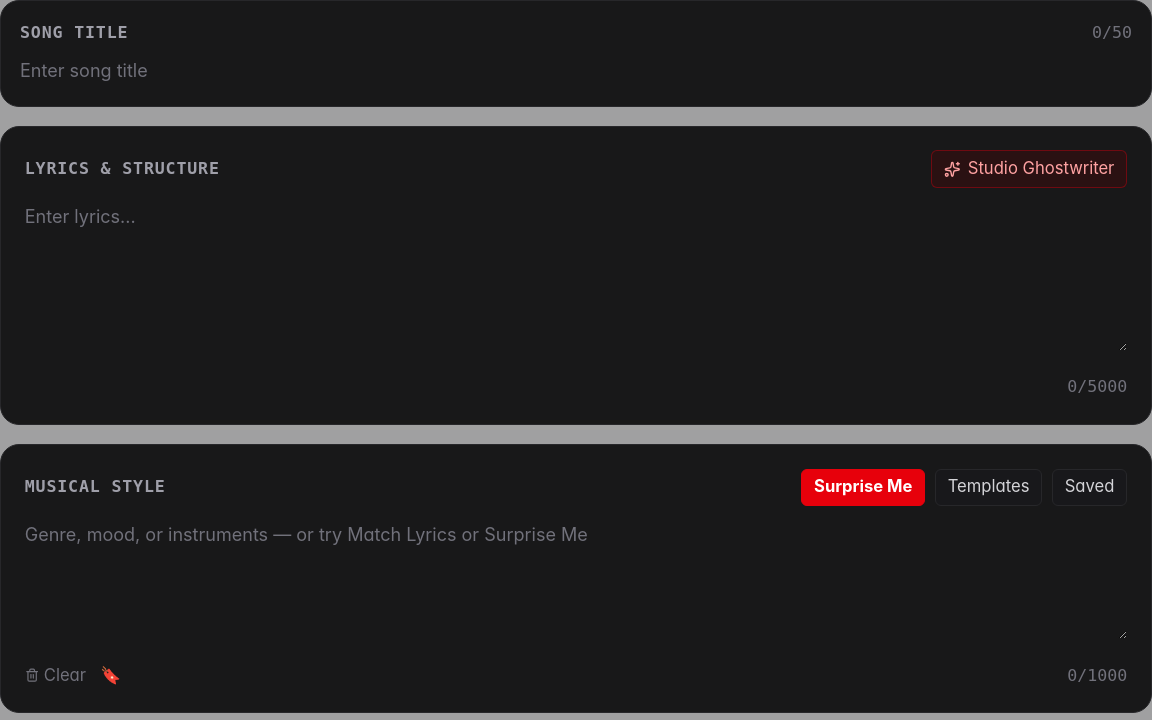
Scenario: VocalStudioTab › clears the style box from the trash control
Type "rain" into the text box named "Style" at (576, 580), box top-left (25, 520), bottom-right (1127, 639)
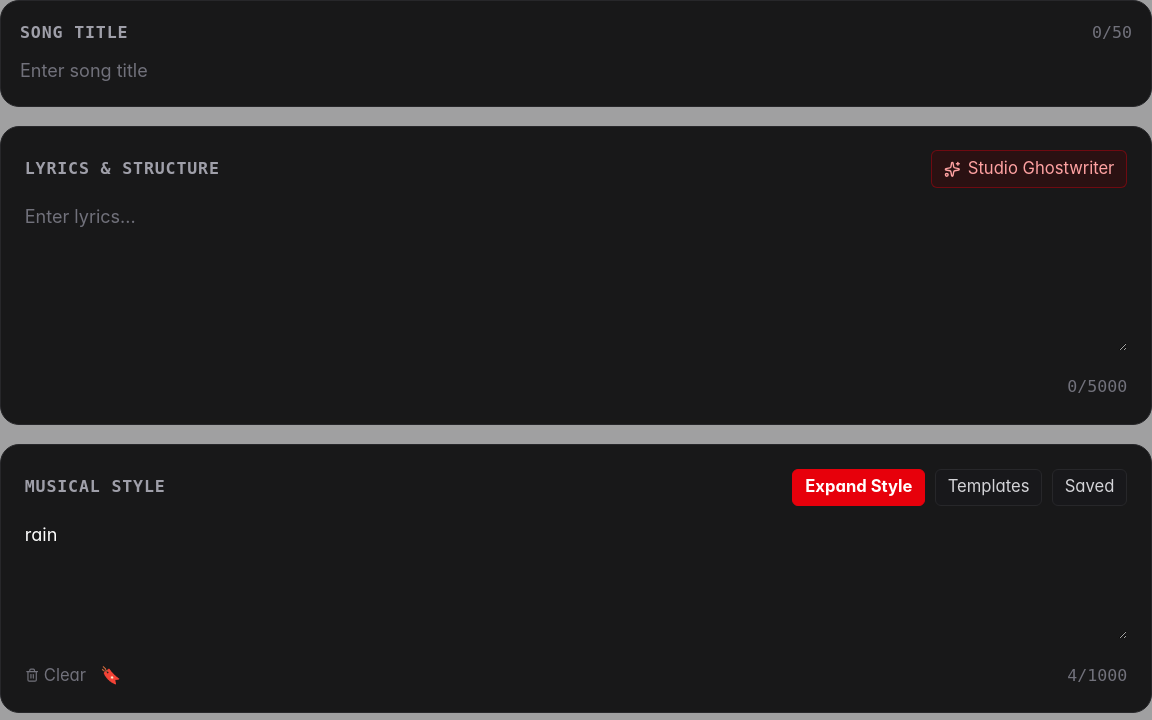
Click the button with aria-label "Clear style" at (55, 676), box top-left (25, 663), bottom-right (86, 688)
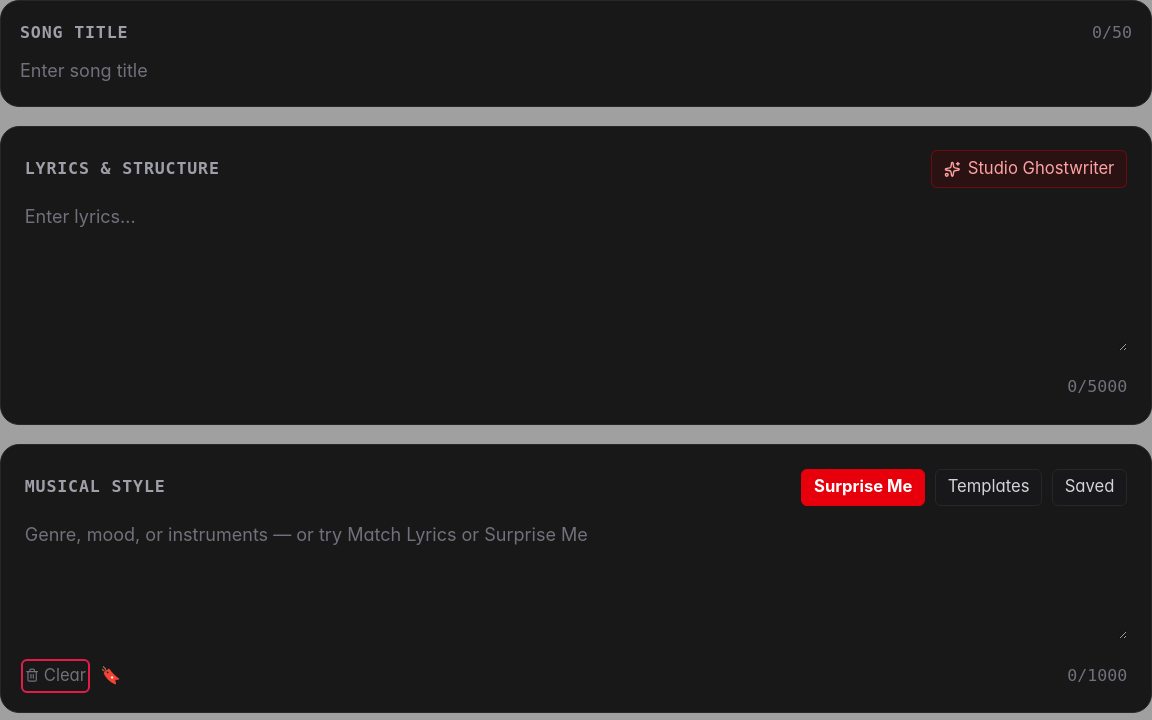
Now the text box named "Style" is empty, box top-left (25, 520), bottom-right (1127, 639)
Now the button "Surprise Me" is shown, box top-left (801, 469), bottom-right (925, 506)
